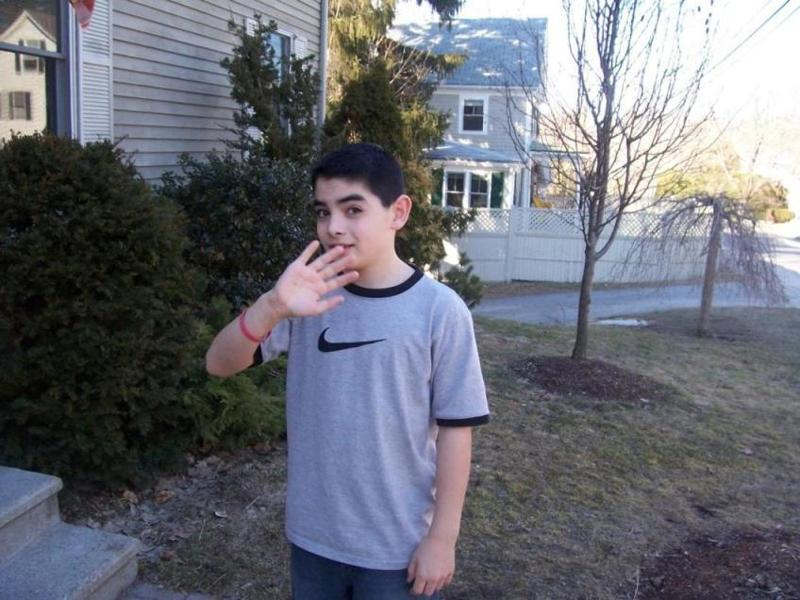person: (206, 149, 492, 600)
